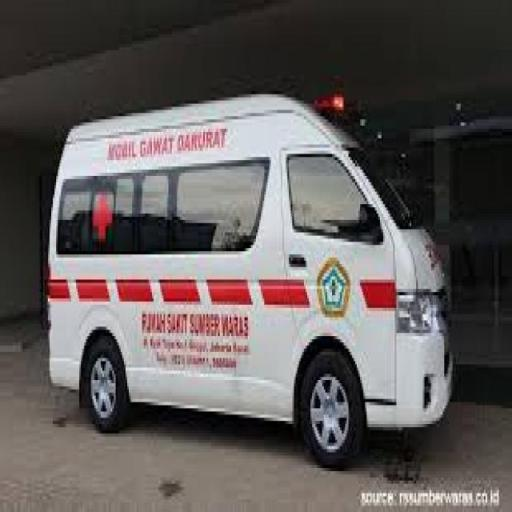Police car: (44, 104, 454, 465)
